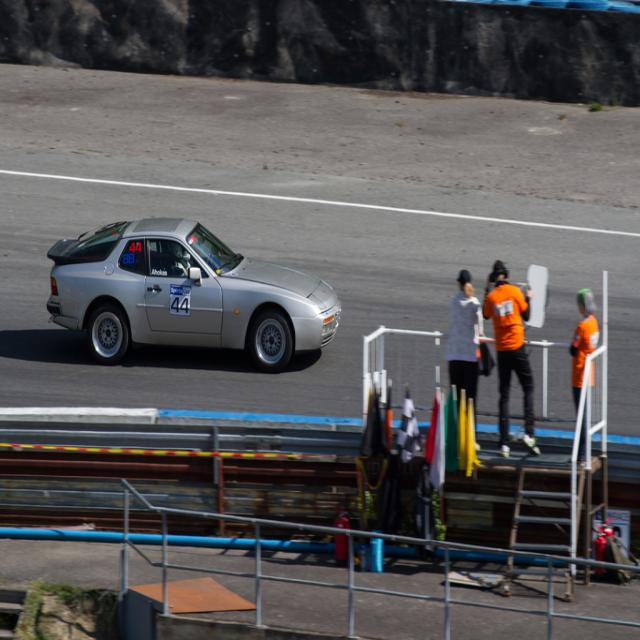car: (46, 218, 342, 370)
